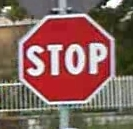stop: (15, 12, 119, 107)
